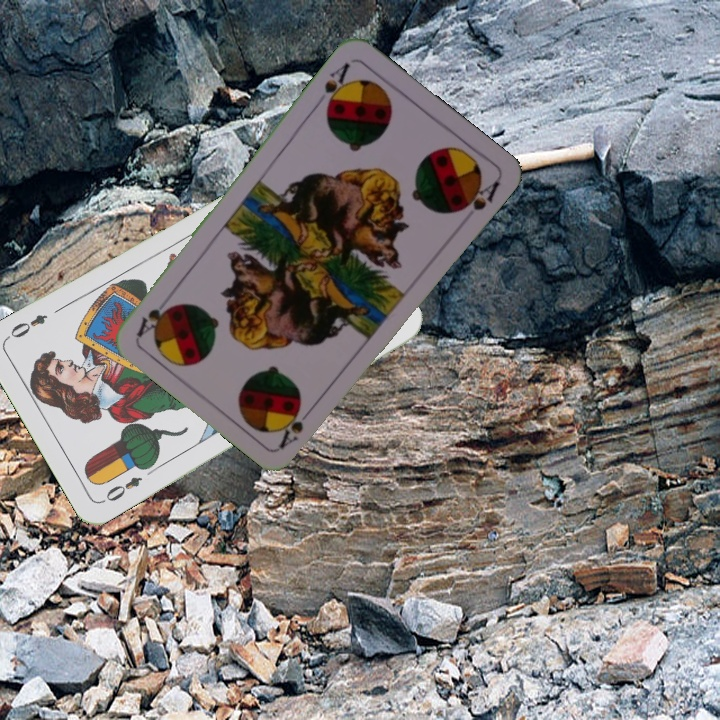EO: (98, 472, 145, 506)
SA: (275, 400, 318, 450), (320, 58, 353, 114)
